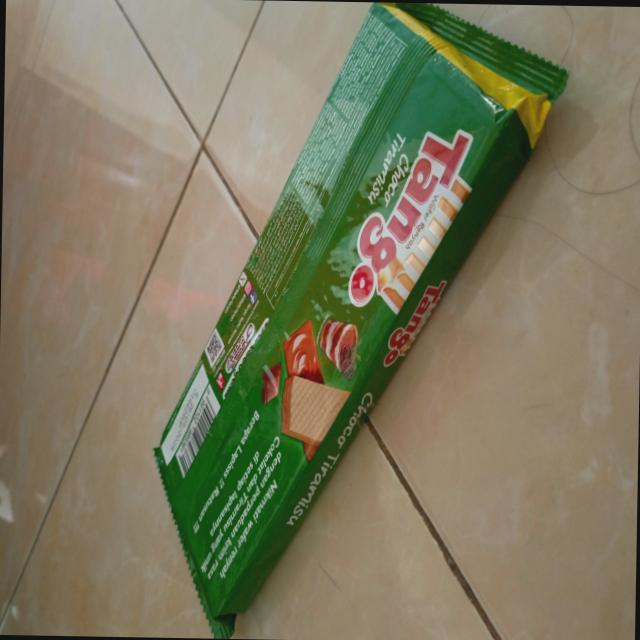tango-tiramisu: (148, 0, 571, 640)
